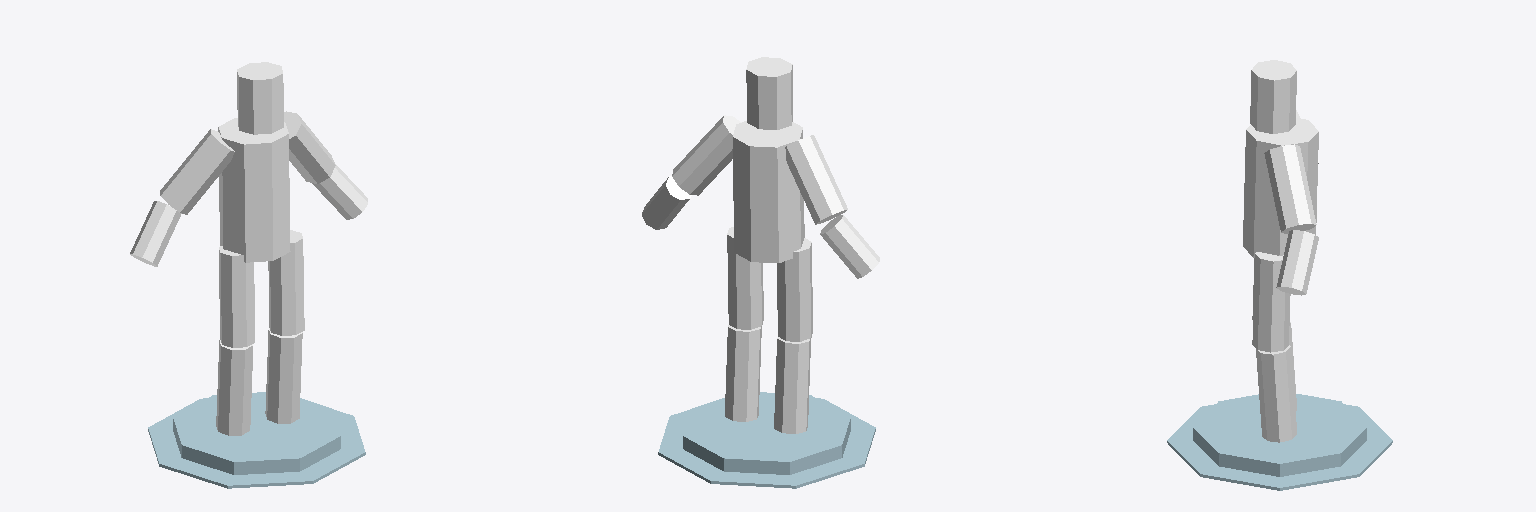
Rendered from SuitofArmor.obj.
3 renders of one model, left to right at view 1: azimuth 30°, elevation 25°; view 2: azimuth 150°, elevation 25°; view 3: azimuth 270°, elevation 25°, orthographic.
Visible parts, largest first — view 1: SuitofArmor; view 2: SuitofArmor; view 3: SuitofArmor.
Part boxes in pixels (left/top/right/bottom): SuitofArmor: left=130, top=62, right=367, bottom=488; SuitofArmor: left=642, top=57, right=879, bottom=488; SuitofArmor: left=1167, top=60, right=1392, bottom=490.
Bounding box in the file's own units: 1.19 × 1.81 × 0.9856.